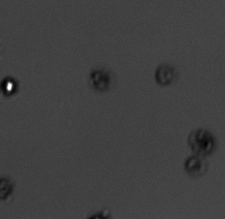Dead Cell: (182, 153, 209, 178), (191, 127, 214, 155), (91, 69, 115, 91), (154, 63, 175, 86), (1, 175, 14, 203)
Living Cell: (1, 75, 19, 98)
